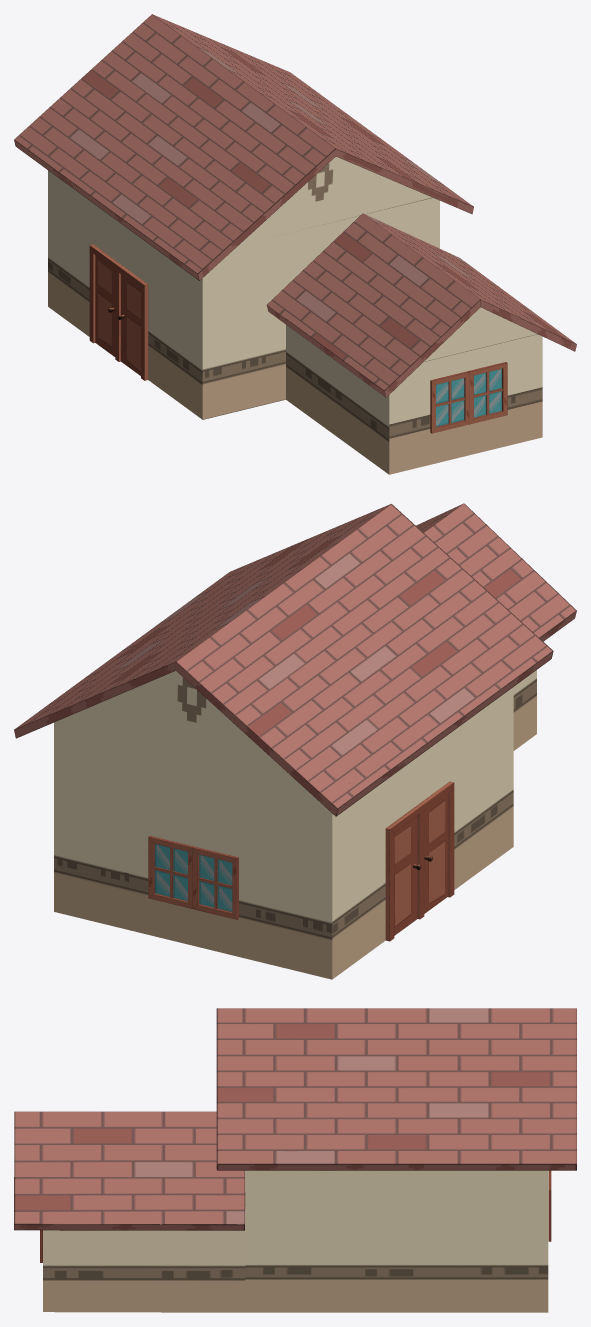
Rendered from rumah3textured.fbx.
3 views of the same model, one above another, from view 1: azimuth 30°, elevation 25°; view 2: azimuth 150°, elevation 25°; view 3: azimuth 270°, elevation 25° (orthographic). The views are drawn at different scales.
Parts seen in each view (by area): view 1: Cube.002, Cube.003, Plane.004, Plane.002; view 2: Cube.002, Cube.003, Plane.004, Plane.002; view 3: Cube.002, Cube.003.
Boxes of the visible parts, box(x1,y1,x2,y2) form: Cube.002: box(14, 14, 576, 397); Cube.003: box(48, 156, 542, 474); Plane.004: box(89, 244, 148, 380); Plane.002: box(430, 362, 507, 433); Cube.002: box(14, 503, 576, 816); Cube.003: box(54, 670, 536, 979); Plane.004: box(385, 781, 454, 941); Plane.002: box(148, 836, 238, 919); Cube.002: box(14, 1008, 576, 1230); Cube.003: box(43, 1170, 548, 1312).
Bounding box in the file's own units: 1093 × 957 × 1969.
4 materials, 4 textured.
